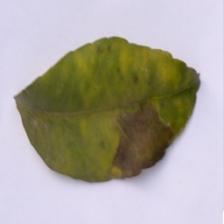black spot: (97, 92, 194, 180)
